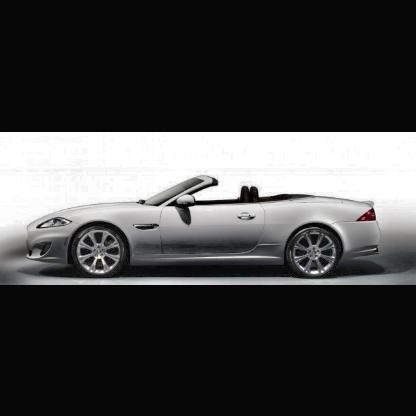Jaguar XK XKR 2012: (28, 176, 381, 278)
